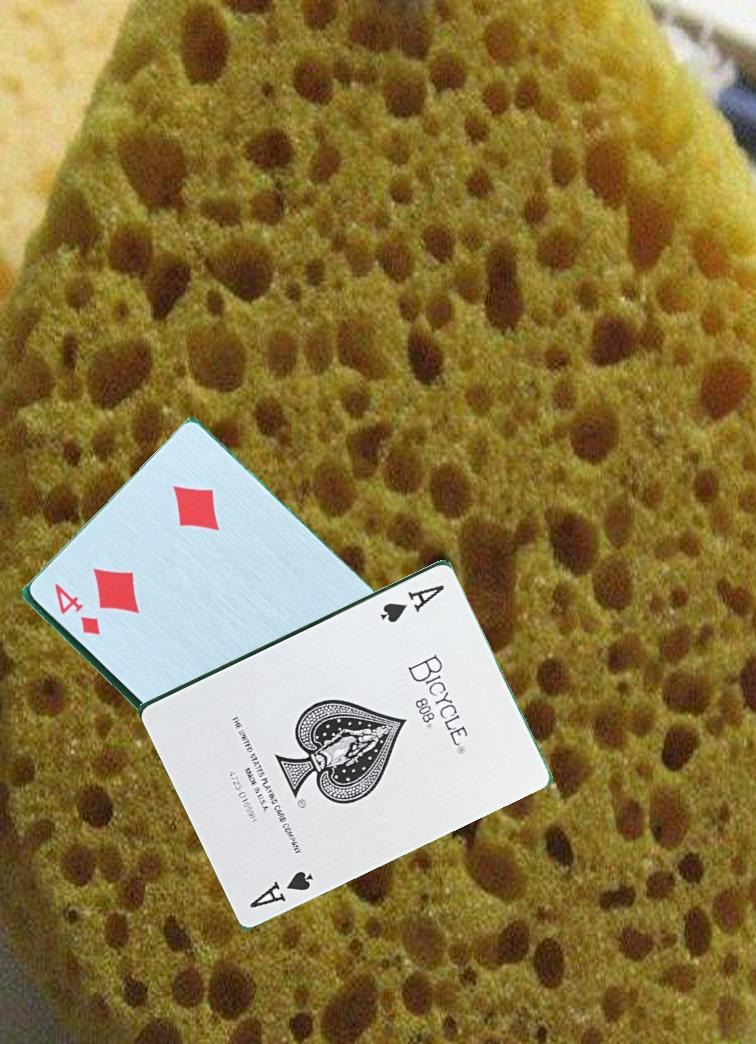4d: (50, 579, 103, 638)
as: (376, 580, 448, 625), (246, 866, 318, 910)
